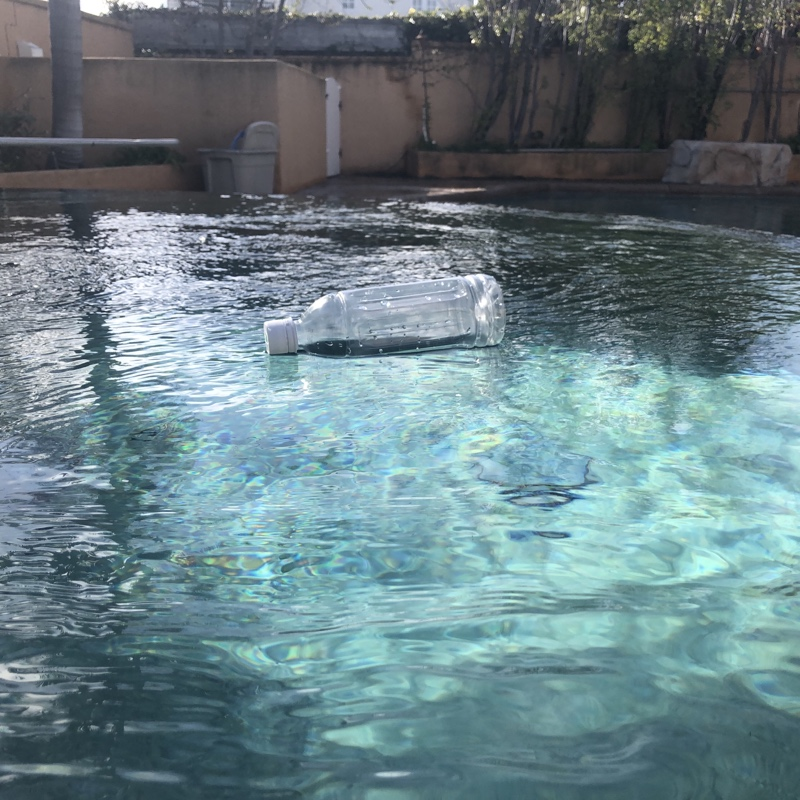Plastic Bottle: (260, 271, 508, 362)
